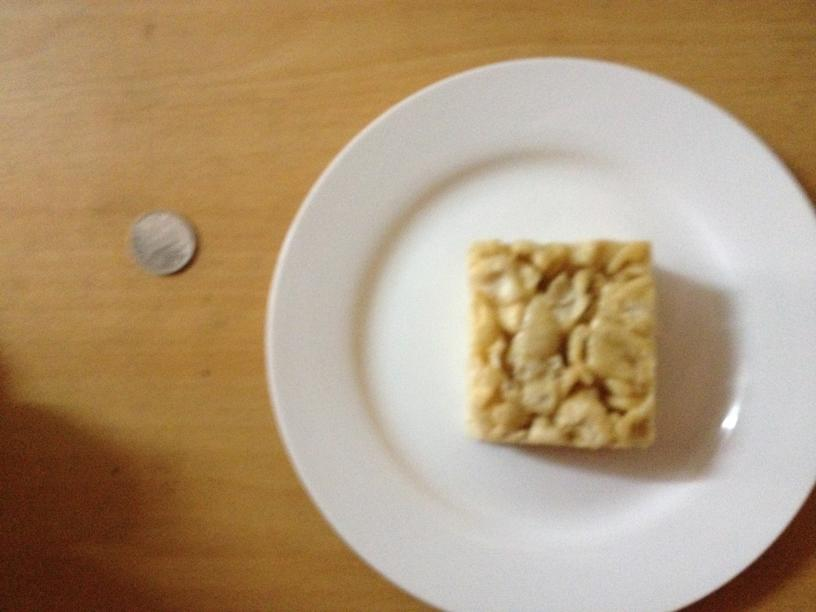coin: (125, 210, 198, 276)
sachima: (462, 238, 660, 450)
